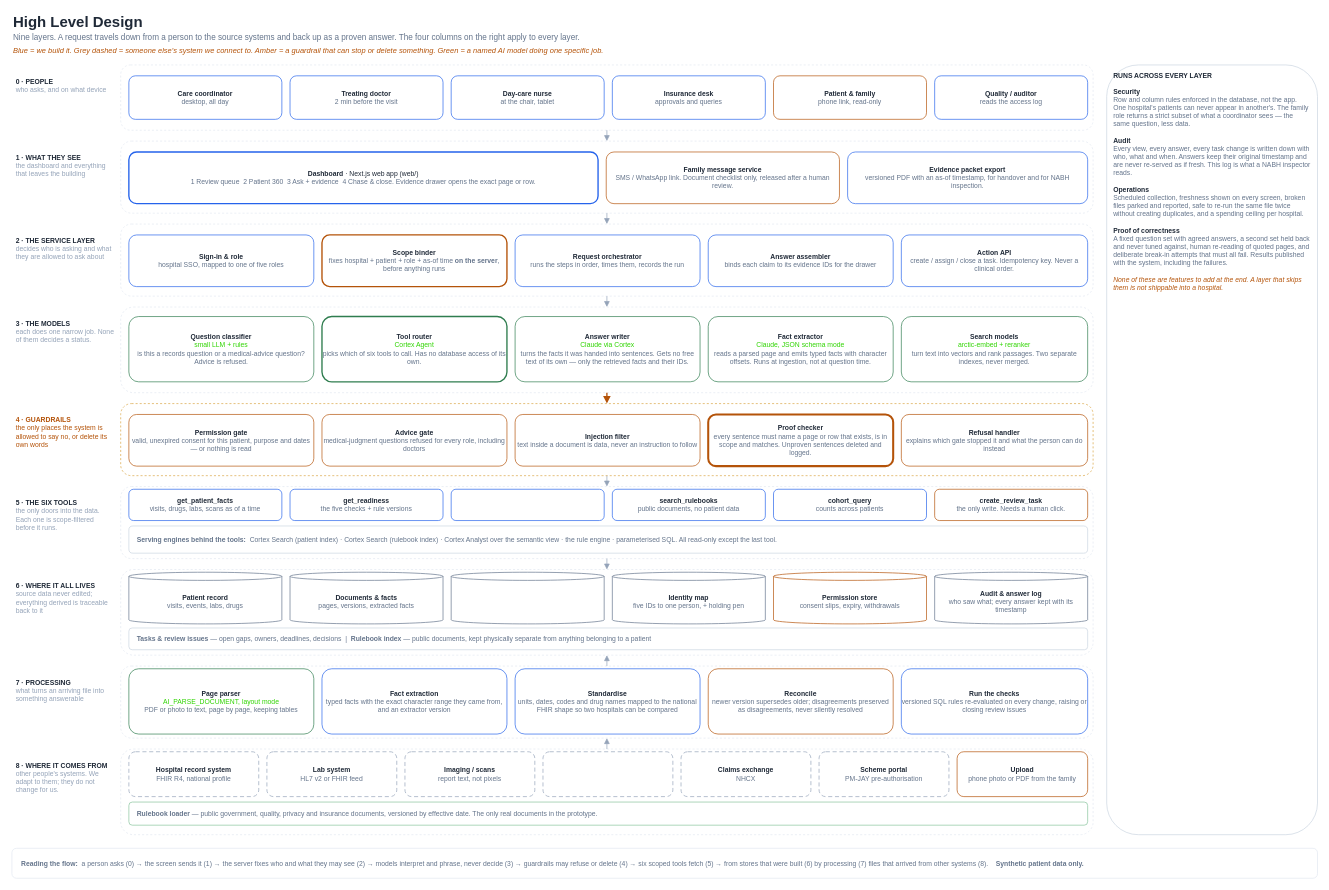
This 1329x890 diagram has some shape labels left out. Here are the shapes that lost their labels. From the top down, the centre of each, then its label:
At (x=527, y=505): "search_patient_docs this patient's pages only".
At (x=527, y=598): "Money & coverage approvals, claims, rejections".
At (x=607, y=774): "National health network ABHA ID, Consent Manager, other hospitals".
